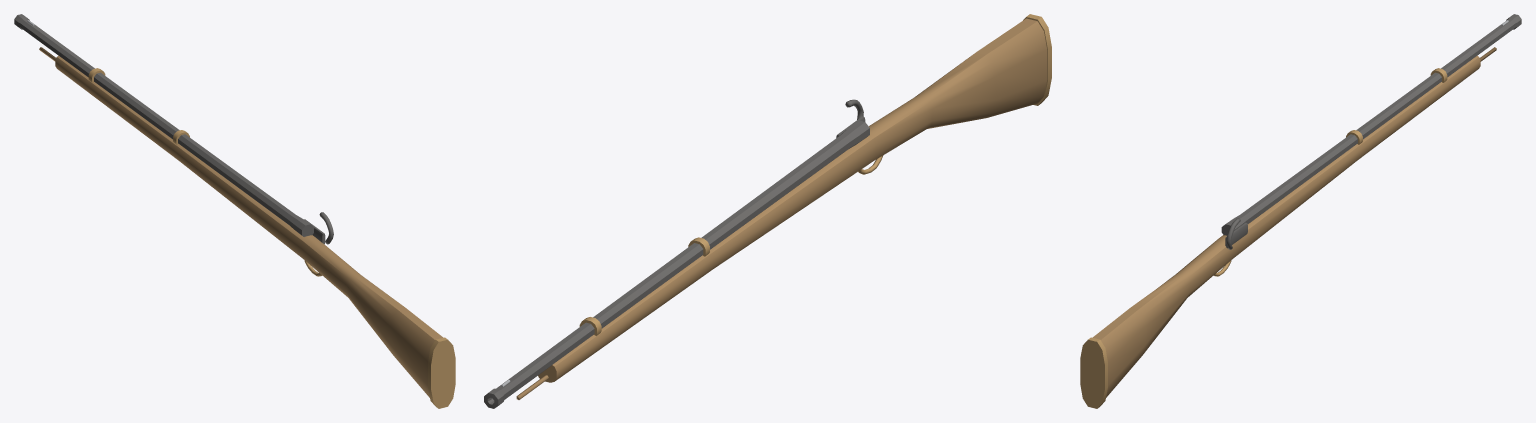
Rendered from rifle.glb.
3 renders of one model, left to right at view 1: azimuth 30°, elevation 25°; view 2: azimuth 150°, elevation 25°; view 3: azimuth 330°, elevation 25°, orthographic. The views are drawn at different scales.
Parts seen in each view (by area): view 1: rifle; view 2: rifle; view 3: rifle.
Part boxes in pixels (x1,y1,x2,y2): rifle: (14, 14, 455, 408); rifle: (484, 14, 1051, 408); rifle: (1080, 14, 1521, 408).
Bounding box in the file's own units: 0.1098 × 0.3721 × 3.01.
